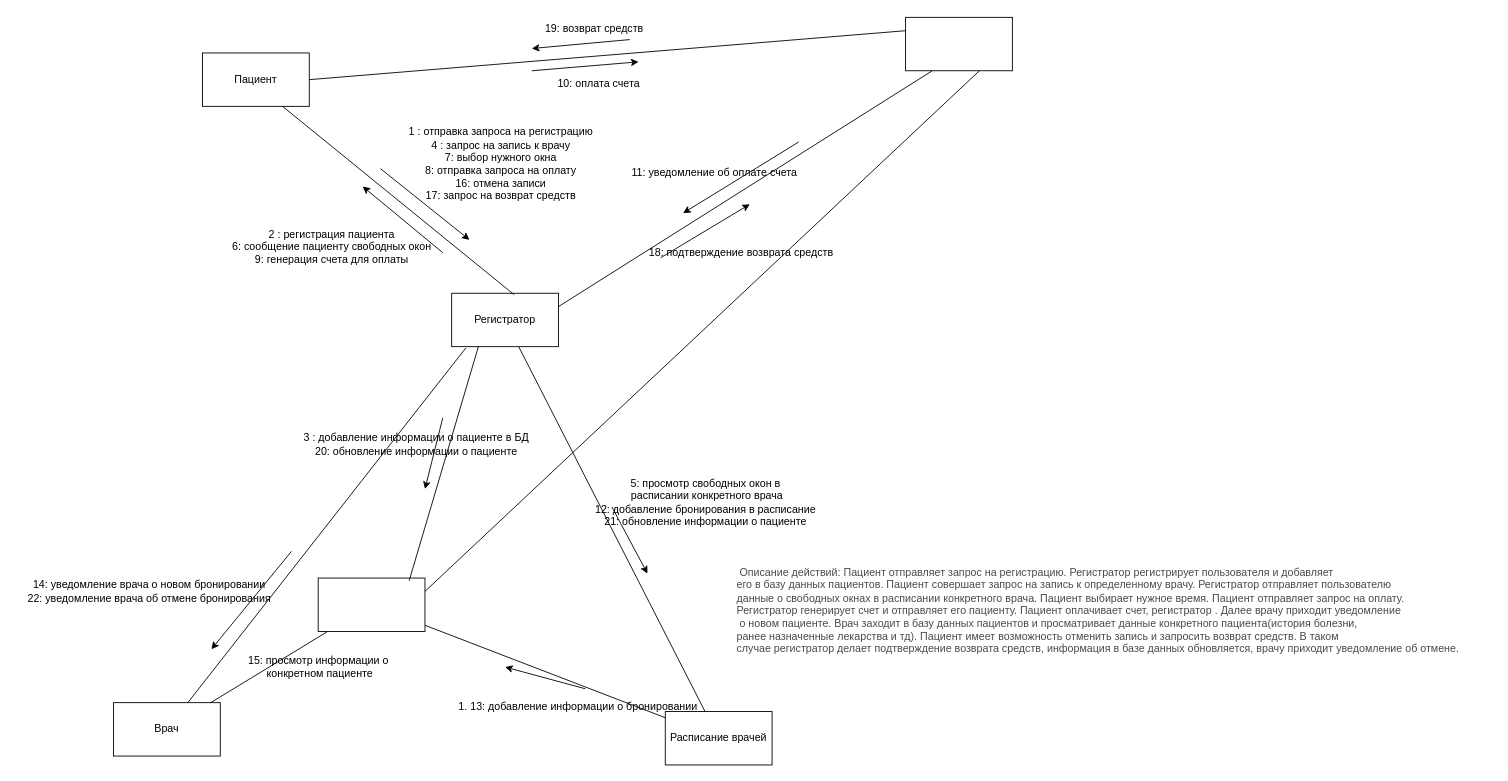
Image size: 1508x781. Some labels were removed from this diagram. Each missing label, with the box of its shape:
База данных пациентов: (317, 577, 425, 631)
Система оплаты: (905, 16, 1012, 71)
